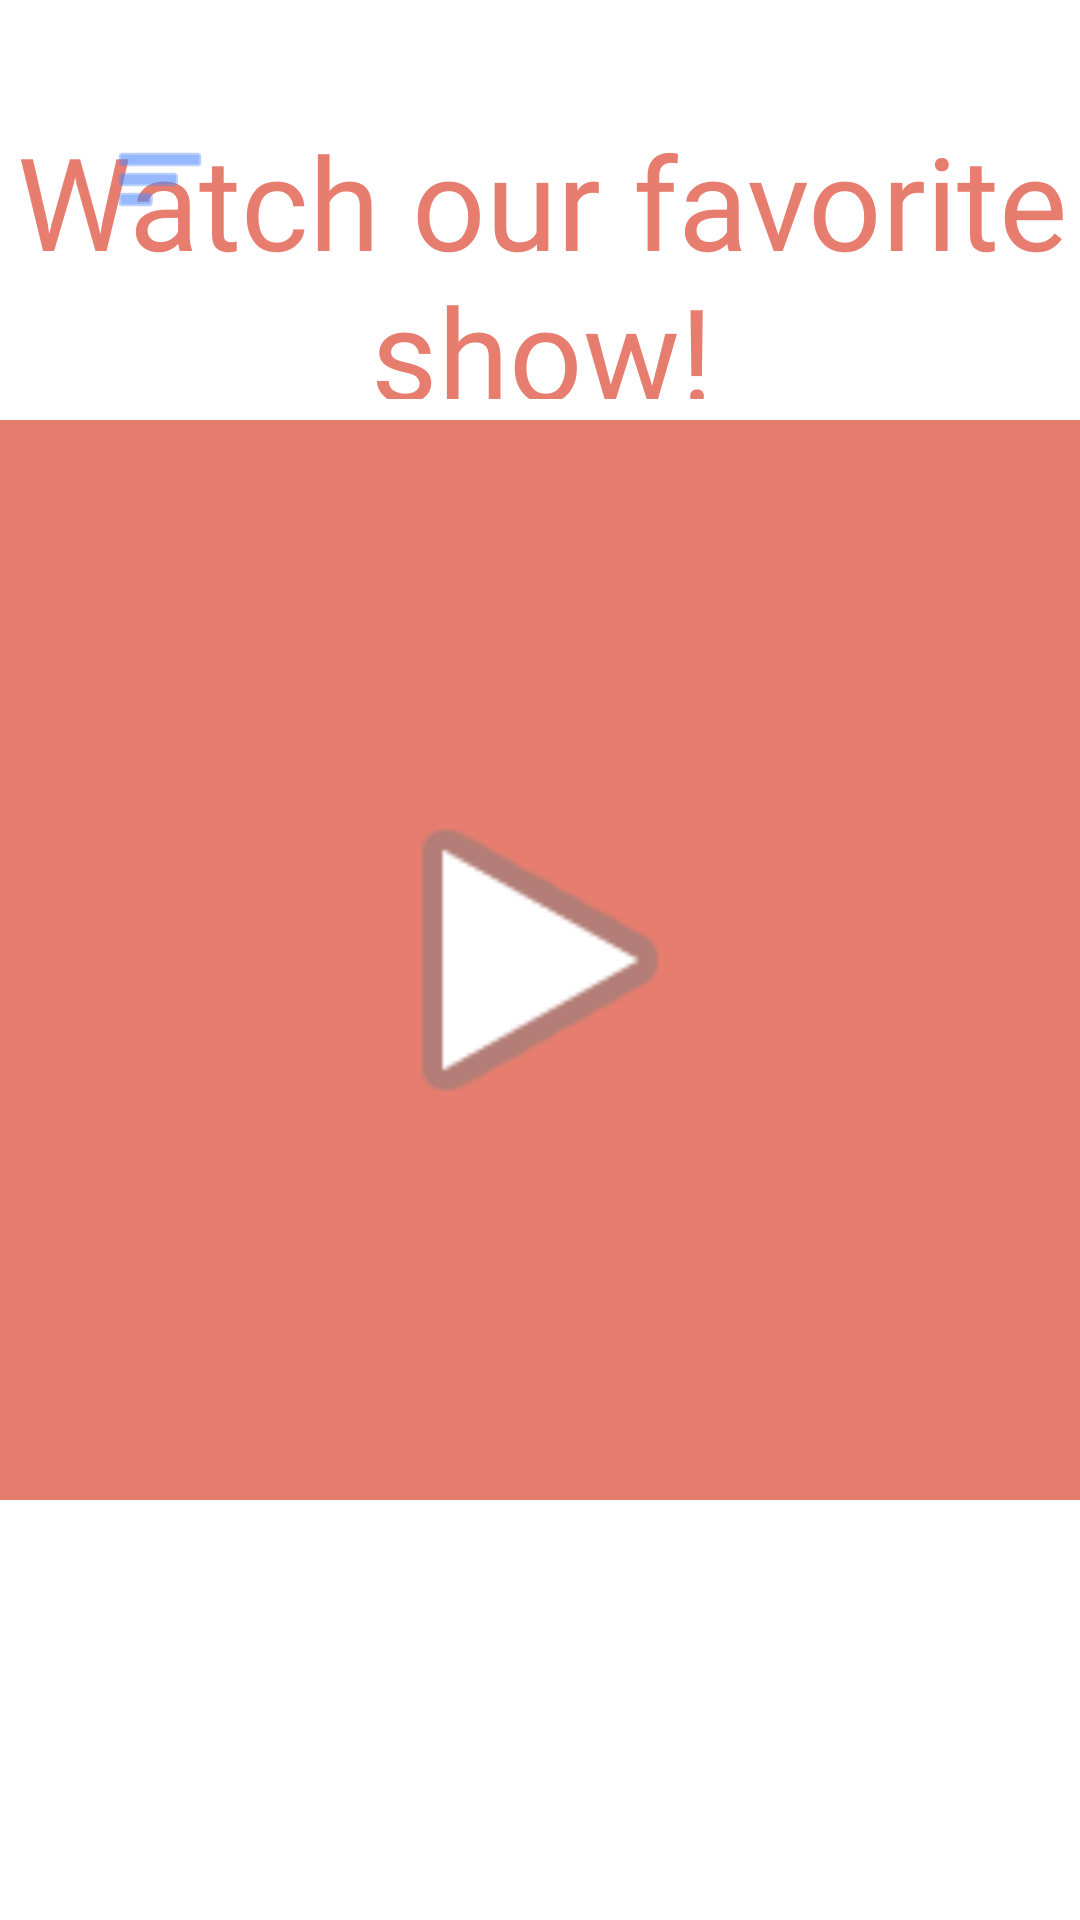

Locate icon controls on the screen. Image size 1080px×1920px, boxes as (x1, y1, x2, y2).
play: (422, 830, 658, 1090)
